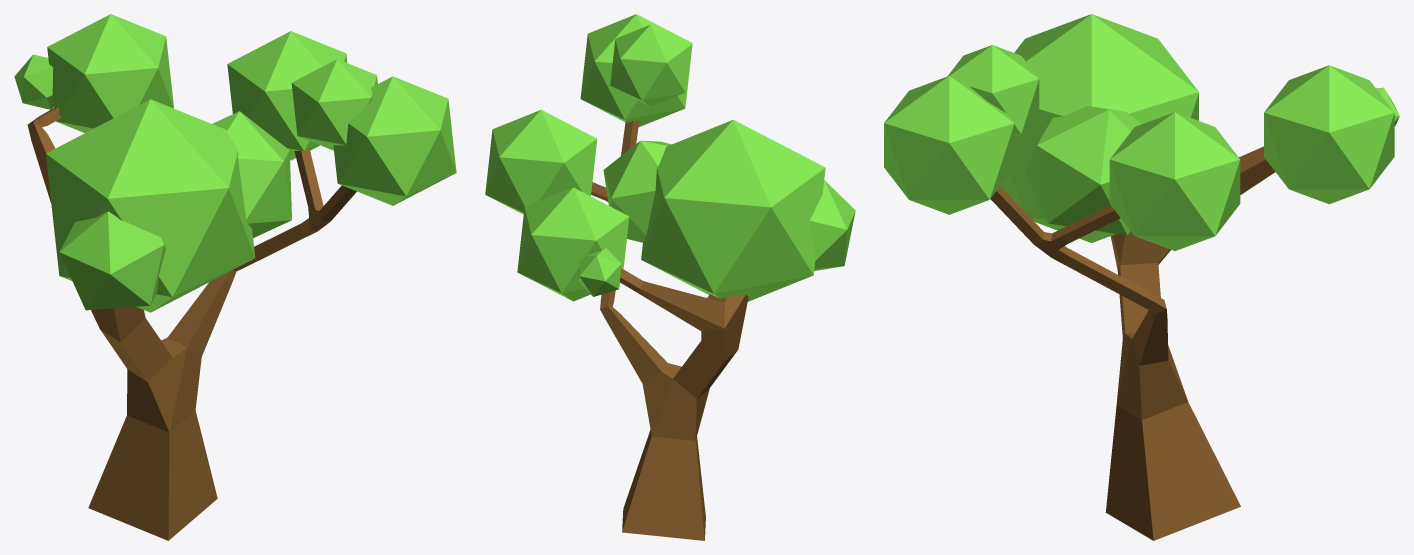
The model's file is tree1.glb.
The picture shows the model from 3 angles, left to right: view 1: azimuth 30°, elevation 25°; view 2: azimuth 150°, elevation 25°; view 3: azimuth 270°, elevation 25°; orthographic projection. The views are drawn at different scales.
Visible parts, largest first — view 1: Icosphere.001, Cube, Icosphere.002, Icosphere, Icosphere.007, Icosphere.003, Icosphere.005, Icosphere.004, Icosphere.006; view 2: Icosphere.001, Cube, Icosphere.003, Icosphere, Icosphere.004, Icosphere.002, Icosphere.005, Icosphere.007, Icosphere.006; view 3: Cube, Icosphere.001, Icosphere.003, Icosphere, Icosphere.002, Icosphere.005, Icosphere.004.
Boxes of the visible parts, x1,y1,x2,y2 form: Icosphere.001: (46,99,255,312); Cube: (27,107,356,540); Icosphere.002: (333,76,456,205); Icosphere: (47,14,173,132); Icosphere.007: (59,211,165,310); Icosphere.003: (227,31,347,160); Icosphere.005: (212,111,291,237); Icosphere.004: (291,59,377,150); Icosphere.006: (14,54,53,109); Icosphere.001: (641,119,825,301); Cube: (591,121,748,540); Icosphere.003: (485,109,597,214); Icosphere: (517,187,629,301); Icosphere.004: (610,24,690,106); Icosphere.002: (580,14,692,126); Icosphere.005: (603,140,671,242); Icosphere.007: (809,180,855,270); Icosphere.006: (578,248,621,296); Cube: (990,146,1275,540); Icosphere.001: (1000,14,1198,242); Icosphere.003: (1109,112,1240,250); Icosphere: (1264,65,1394,204); Icosphere.002: (884,75,1014,214); Icosphere.005: (1025,106,1141,235); Icosphere.004: (948,45,1039,136).
Size of the model in its own units: 5.57 by 7.6 by 6.72.
